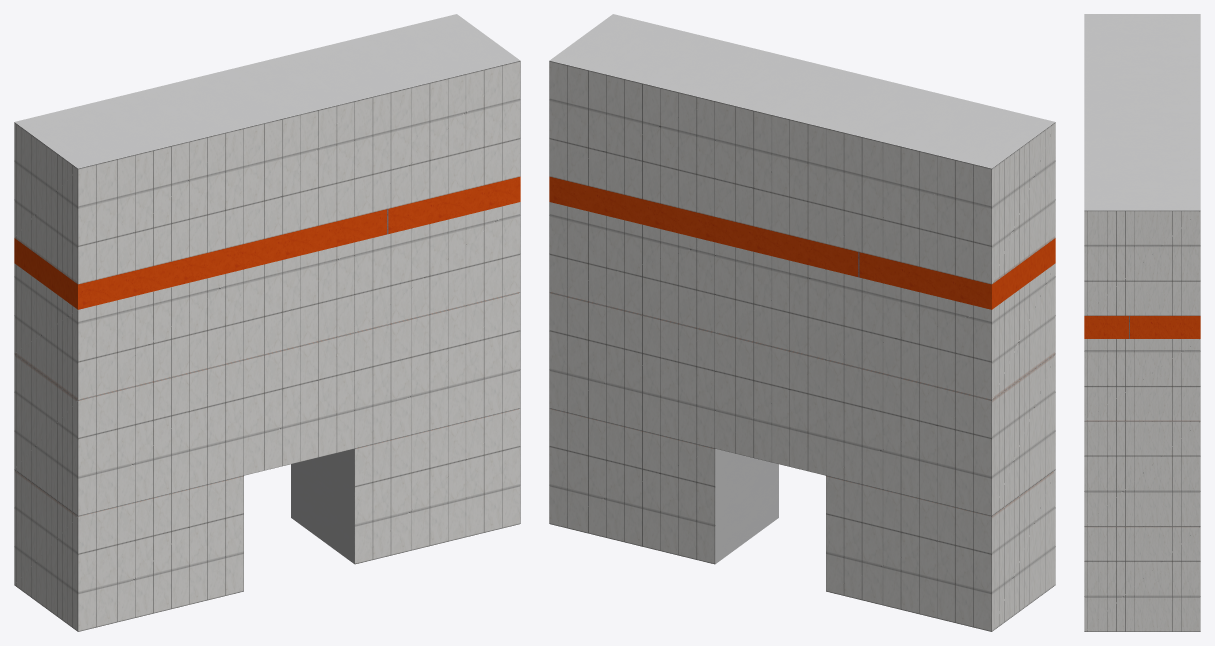
Rendered from WallThick_3.fbx.
3 views of the same model, side by side, from view 1: azimuth 30°, elevation 25°; view 2: azimuth 150°, elevation 25°; view 3: azimuth 270°, elevation 25° (orthographic). The views are drawn at different scales.
Parts seen in each view (by area): view 1: WallThick_3; view 2: WallThick_3; view 3: WallThick_3.
Boxes of the visible parts, box(x1,y1,x2,y2) form: WallThick_3: box(14, 14, 520, 631); WallThick_3: box(549, 14, 1055, 631); WallThick_3: box(1084, 14, 1200, 631).
Size of the model in its own units: 4 by 4 by 1.
